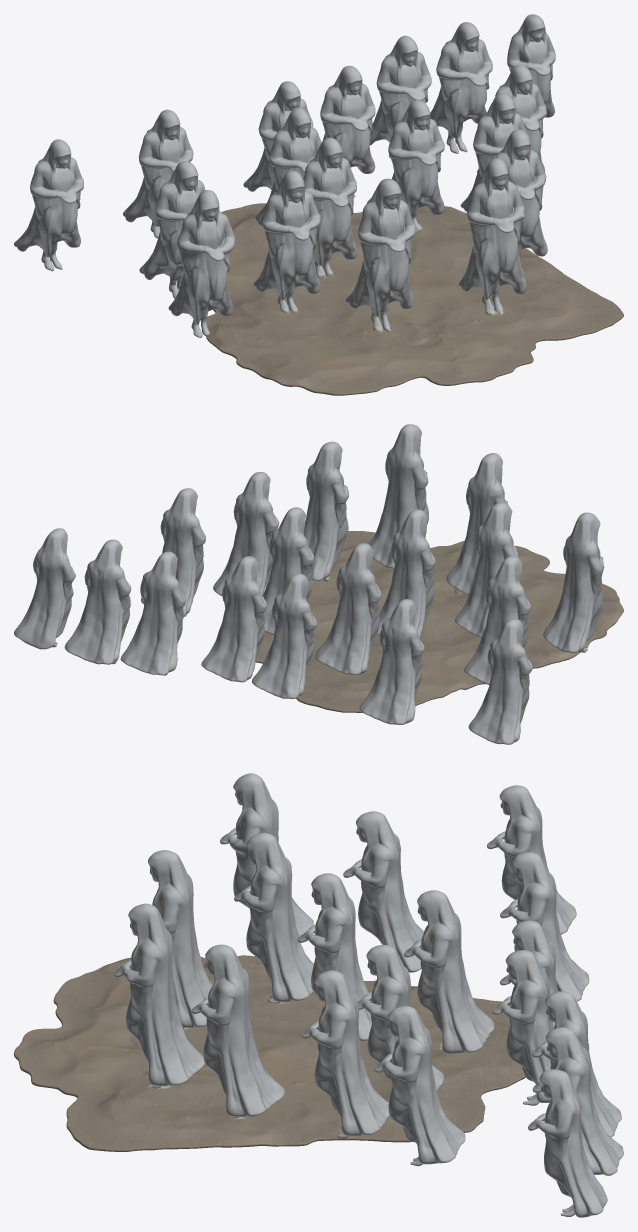
Rendered from 33-la-romería-de-las-ánimas-benditas-chiguala-optimized.glb.
3 renders of one model, top to bottom at view 1: azimuth 30°, elevation 25°; view 2: azimuth 150°, elevation 25°; view 3: azimuth 270°, elevation 25°, orthographic. The views are drawn at different scales.
Visible parts, largest first — view 1: tripo_node_8b8b57a5-3dfa-463f-8ffc-fca4db2a91ad; view 2: tripo_node_8b8b57a5-3dfa-463f-8ffc-fca4db2a91ad; view 3: tripo_node_8b8b57a5-3dfa-463f-8ffc-fca4db2a91ad.
Part boxes in pixels (x1,y1,x2,y2): tripo_node_8b8b57a5-3dfa-463f-8ffc-fca4db2a91ad: [14, 14, 623, 395]; tripo_node_8b8b57a5-3dfa-463f-8ffc-fca4db2a91ad: [14, 424, 623, 744]; tripo_node_8b8b57a5-3dfa-463f-8ffc-fca4db2a91ad: [14, 773, 623, 1217].
Size of the model in its own units: 1 by 0.2877 by 0.8395.
1 material, 1 textured.
